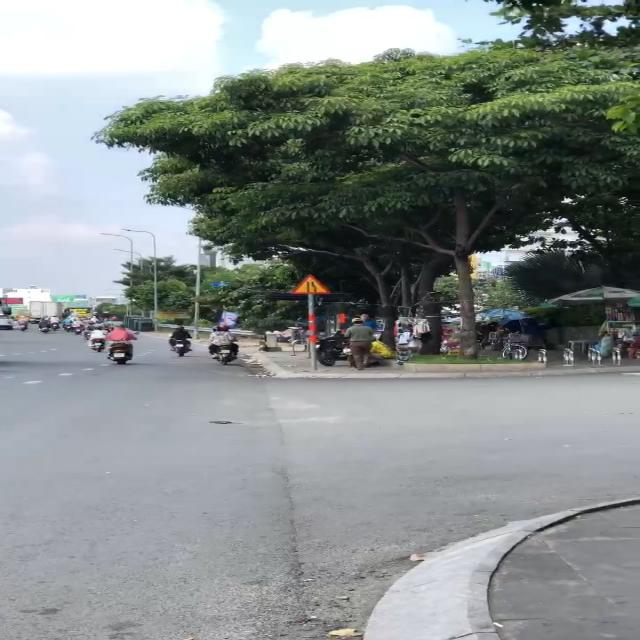Bien bao duong bi thu hep: (286, 273, 333, 297)
